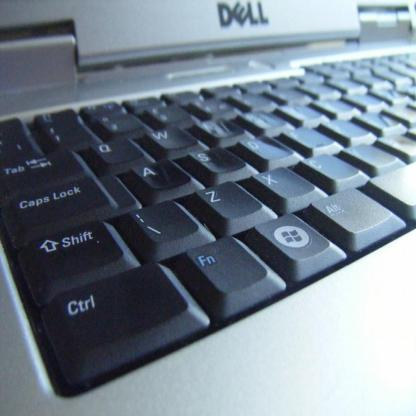board: (1, 0, 416, 394)
